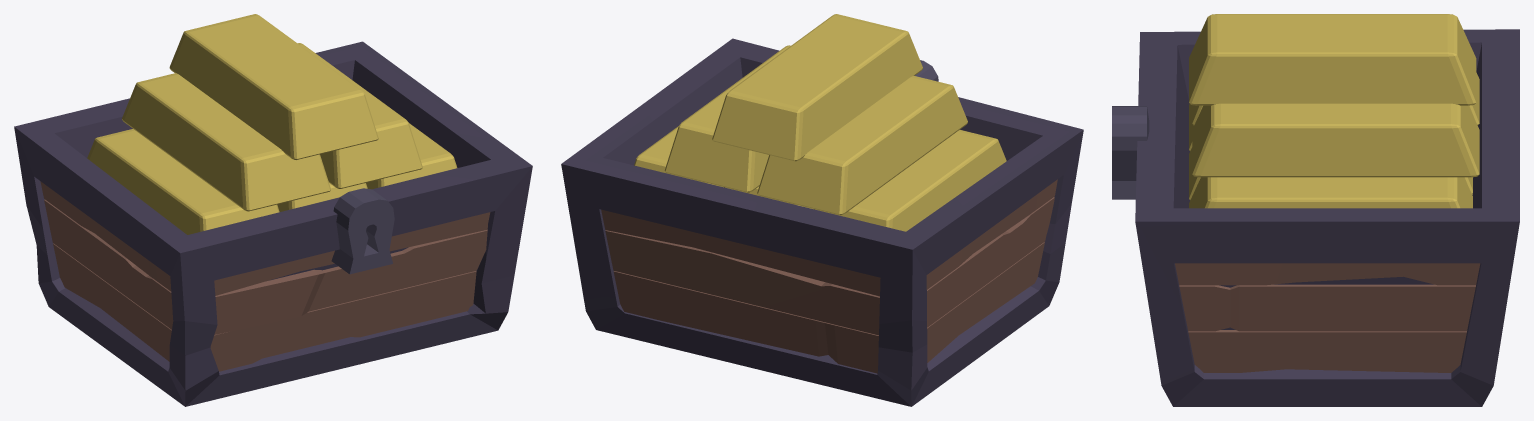
Rendered from Chest_Base.fbx.
3 views of the same model, side by side, from view 1: azimuth 30°, elevation 25°; view 2: azimuth 150°, elevation 25°; view 3: azimuth 270°, elevation 25° (orthographic). The views are drawn at different scales.
Visible parts, largest first — view 1: Chest_Ingots.001; view 2: Chest_Ingots.001; view 3: Chest_Ingots.001.
Boxes of the visible parts, box(x1,y1,x2,y2) form: Chest_Ingots.001: box(14, 14, 532, 406); Chest_Ingots.001: box(561, 14, 1083, 406); Chest_Ingots.001: box(1112, 14, 1519, 406).
Bounding box in the file's own units: 9.2 × 8.2 × 6.41.
